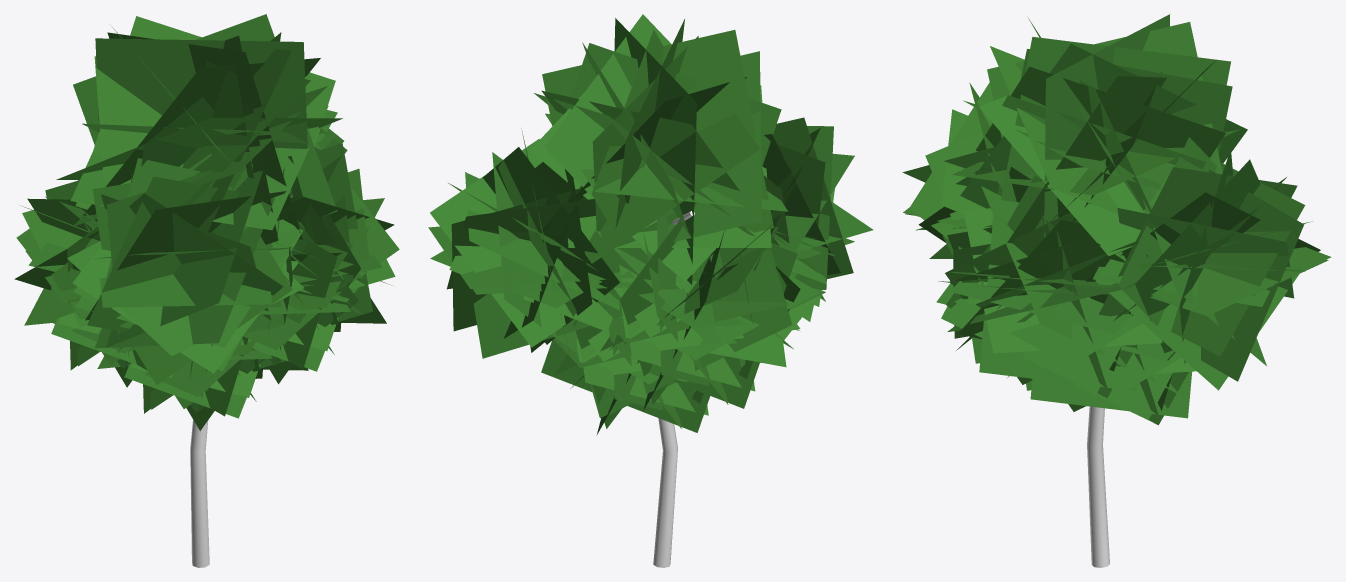
Rendered from SM_Tree.fbx.
3 views of the same model, side by side, from view 1: azimuth 30°, elevation 25°; view 2: azimuth 150°, elevation 25°; view 3: azimuth 270°, elevation 25° (orthographic). The views are drawn at different scales.
Visible parts, largest first — view 1: SM_Tree; view 2: SM_Tree; view 3: SM_Tree.
Boxes of the visible parts, box(x1,y1,x2,y2) form: SM_Tree: box(14, 14, 399, 567); SM_Tree: box(428, 14, 873, 567); SM_Tree: box(902, 14, 1331, 567).
Size of the model in its own units: 405 by 435 by 596.
